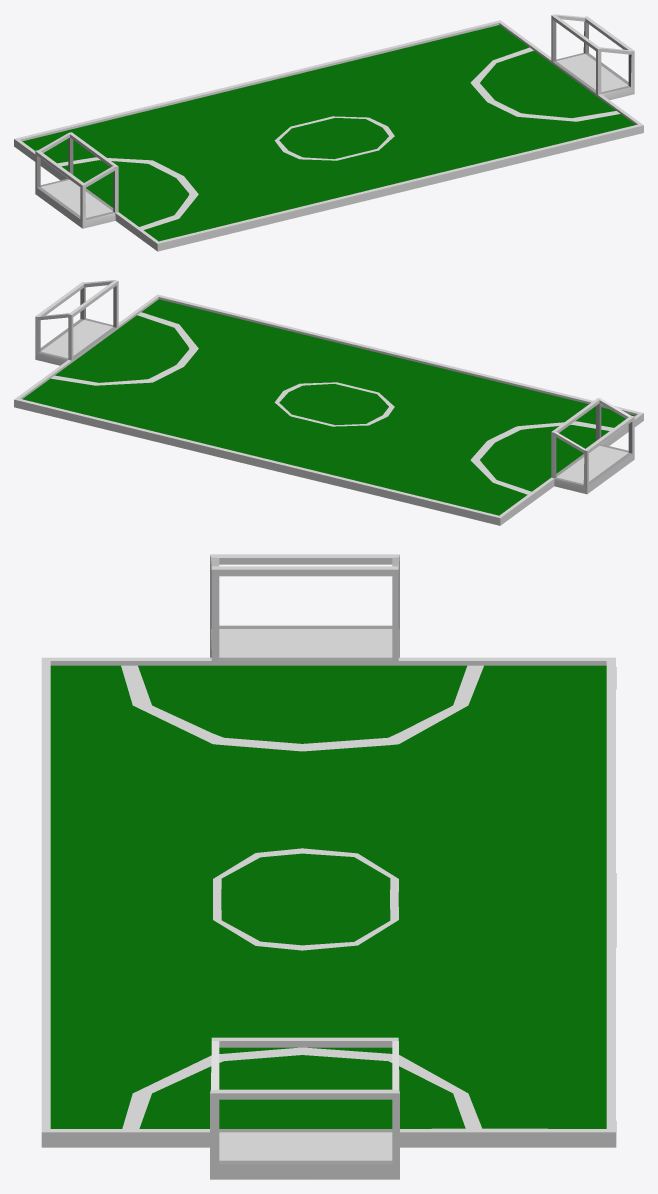
File: Prop_SoccerField_Mod.fbx
3 renders of one model, top to bottom at view 1: azimuth 30°, elevation 25°; view 2: azimuth 150°, elevation 25°; view 3: azimuth 270°, elevation 25°, orthographic. The views are drawn at different scales.
Parts seen in each view (by area): view 1: SoccerCourt; view 2: SoccerCourt; view 3: SoccerCourt.
Boxes of the visible parts, x1,y1,x2,y2 form: SoccerCourt: (14, 14, 643, 251); SoccerCourt: (14, 280, 643, 525); SoccerCourt: (41, 554, 616, 1179).
Bounding box in the file's own units: 13.66 × 1.26 × 6.16.
